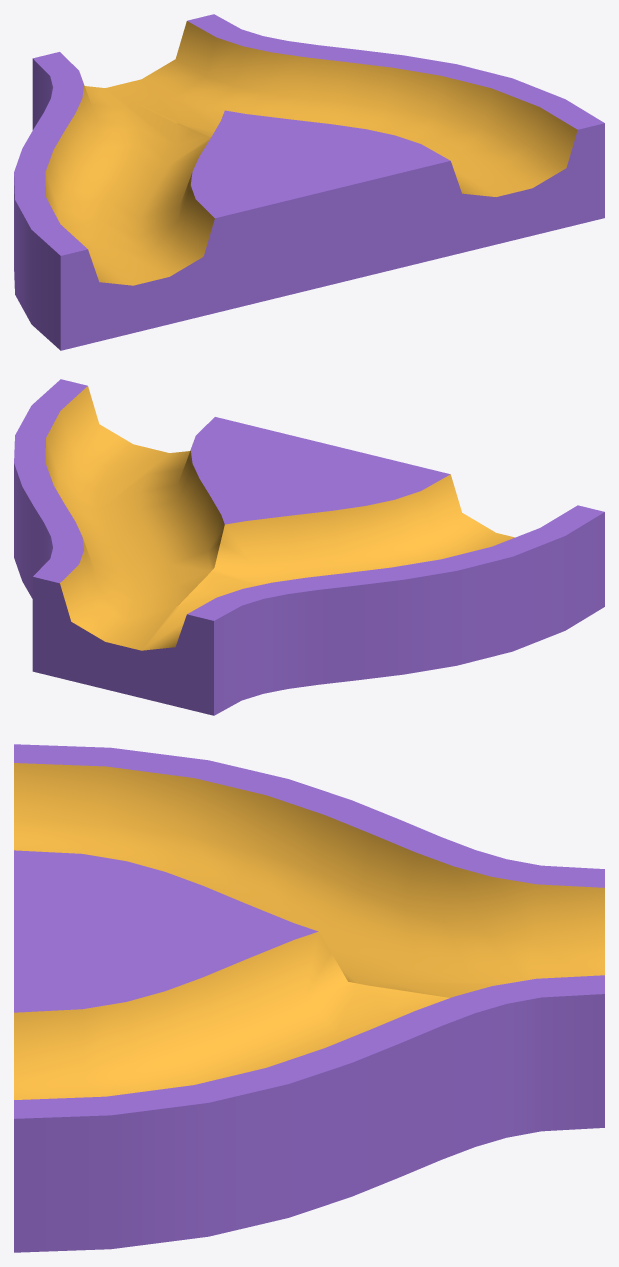
File: kenney-marble-split-double-solid.glb
3 renders of one model, top to bottom at view 1: azimuth 30°, elevation 25°; view 2: azimuth 150°, elevation 25°; view 3: azimuth 270°, elevation 25°, orthographic. The views are drawn at different scales.
Parts seen in each view (by area): view 1: split-double-solid; view 2: split-double-solid; view 3: split-double-solid.
Boxes of the visible parts, x1,y1,x2,y2 form: split-double-solid: [14, 14, 604, 350]; split-double-solid: [14, 379, 604, 715]; split-double-solid: [14, 744, 604, 1252].
Size of the model in its own units: 3 by 0.4999 by 2.
1 material, 1 textured.
